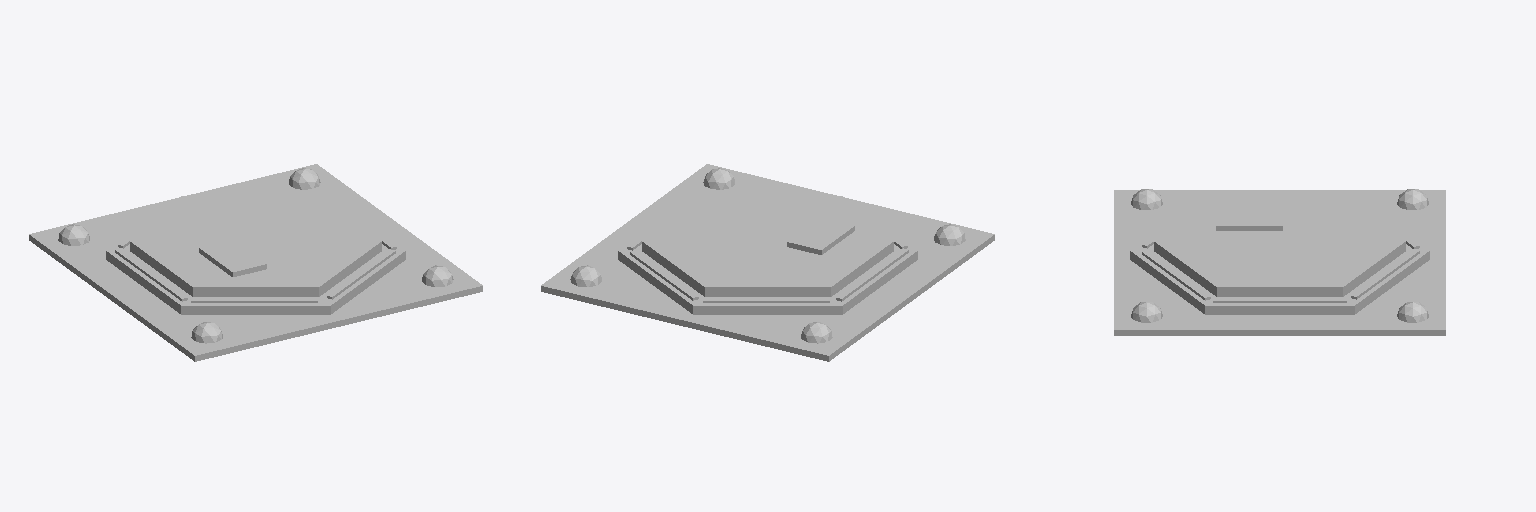
The model's file is silo.obj.
The picture shows the model from 3 angles: view 1: azimuth 30°, elevation 25°; view 2: azimuth 150°, elevation 25°; view 3: azimuth 270°, elevation 25°; orthographic projection.
Parts seen in each view (by area): view 1: Cube.001, Cylinder.001, Cylinder, Cube.002, Icosphere, Cube.003_Cube.005; view 2: Cube.001, Cylinder.001, Cylinder, Cube.002, Icosphere, Cube.003_Cube.005; view 3: Cube.001, Cylinder.001, Cylinder, Cube.002, Icosphere, Cube.003_Cube.005.
Part boxes in pixels (bbox=[...]): Cube.001: bbox=[29, 164, 482, 361]; Cylinder.001: bbox=[130, 195, 381, 296]; Cylinder: bbox=[106, 196, 405, 314]; Cube.002: bbox=[115, 197, 396, 302]; Icosphere: bbox=[58, 168, 453, 343]; Cube.003_Cube.005: bbox=[199, 240, 266, 276]; Cube.001: bbox=[541, 164, 994, 361]; Cylinder.001: bbox=[642, 195, 893, 296]; Cylinder: bbox=[618, 196, 917, 314]; Cube.002: bbox=[627, 197, 908, 302]; Icosphere: bbox=[570, 168, 965, 343]; Cube.003_Cube.005: bbox=[787, 218, 854, 254]; Cube.001: bbox=[1114, 190, 1445, 335]; Cylinder.001: bbox=[1154, 195, 1405, 296]; Cylinder: bbox=[1130, 196, 1429, 314]; Cube.002: bbox=[1142, 196, 1419, 302]; Icosphere: bbox=[1131, 189, 1428, 322]; Cube.003_Cube.005: bbox=[1216, 209, 1282, 230].
Bounding box in the file's own units: 10 × 1.34 × 10.